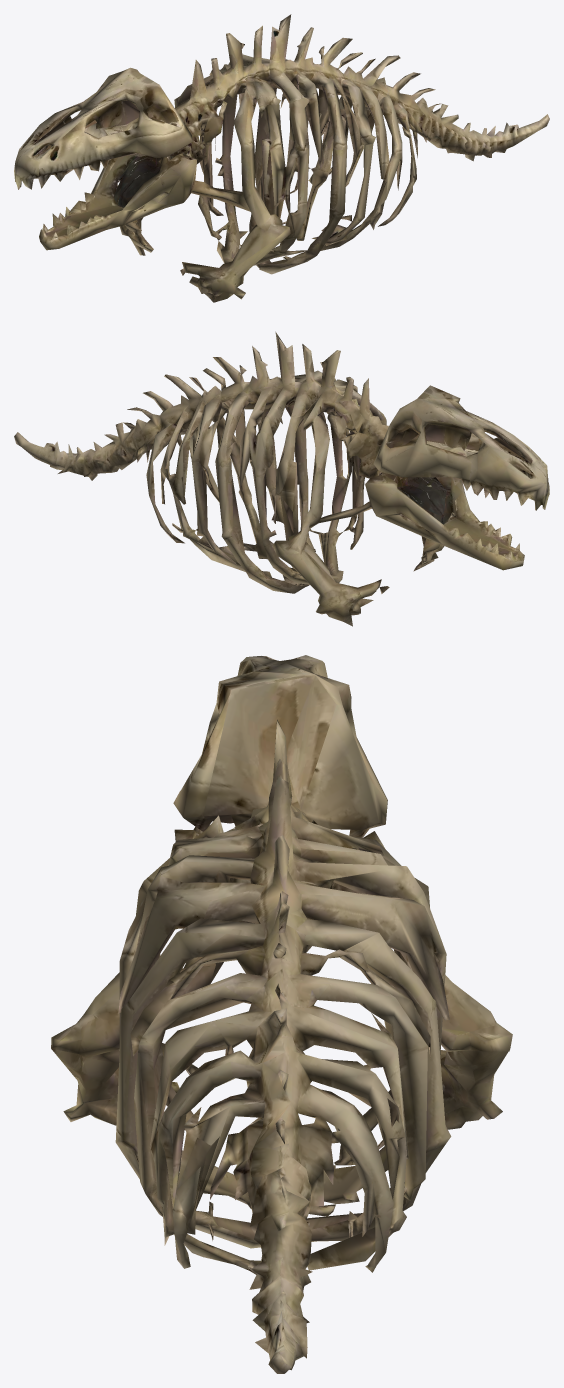
The picture shows the model from 3 angles, top to bottom: view 1: azimuth 30°, elevation 25°; view 2: azimuth 150°, elevation 25°; view 3: azimuth 270°, elevation 25°; orthographic projection. The views are drawn at different scales.
Parts seen in each view (by area): view 1: Mesh_0; view 2: Mesh_0; view 3: Mesh_0.
Boxes of the visible parts, x1,y1,x2,y2 form: Mesh_0: (14, 14, 549, 302); Mesh_0: (14, 331, 549, 626); Mesh_0: (51, 655, 512, 1373).
Size of the model in its own units: 1.99 by 0.8892 by 0.7467.
Materials: 1 (1 with a texture image).
